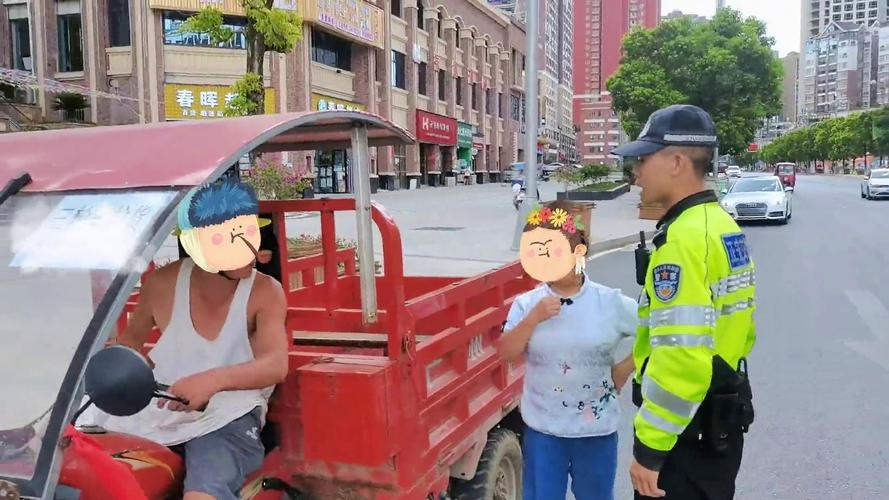driver: (88, 141, 359, 460)
only_driver: (4, 90, 623, 500)
passenger: (483, 170, 644, 500)
